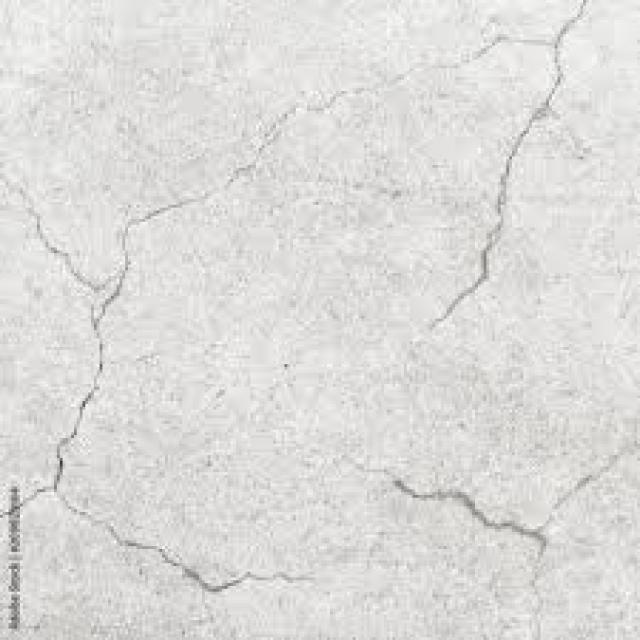crack: (3, 5, 585, 601)
